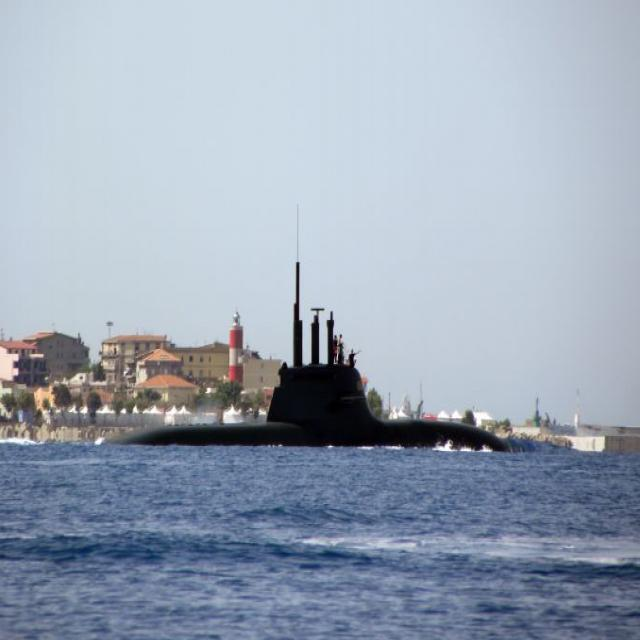submarine: (92, 263, 548, 446)
